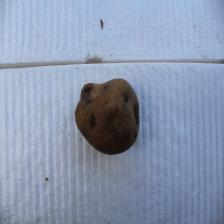Diseased-fungal potato: (76, 78, 141, 156)
